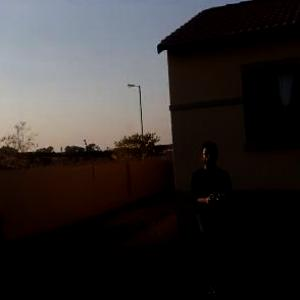follow: (188, 138, 239, 299)
